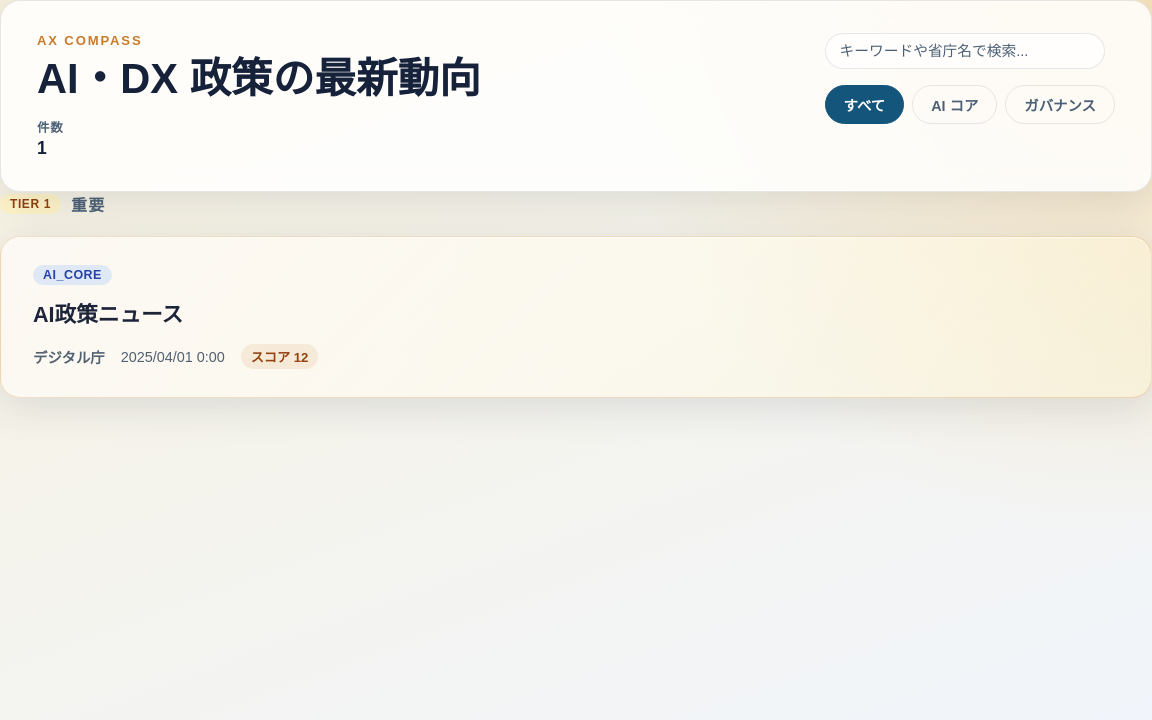
Dashboard › 検索で全件絞り込まれると「このカテゴリの情報はありません。」を表示する
The width and height of the screenshot is (1152, 720).
Type "存在しないキーワード" into the search field with placeholder "キーワードや省庁名で検索...".
click(965, 51); type("存在しないキーワード")  # box top-left (825, 33), bottom-right (1105, 69)
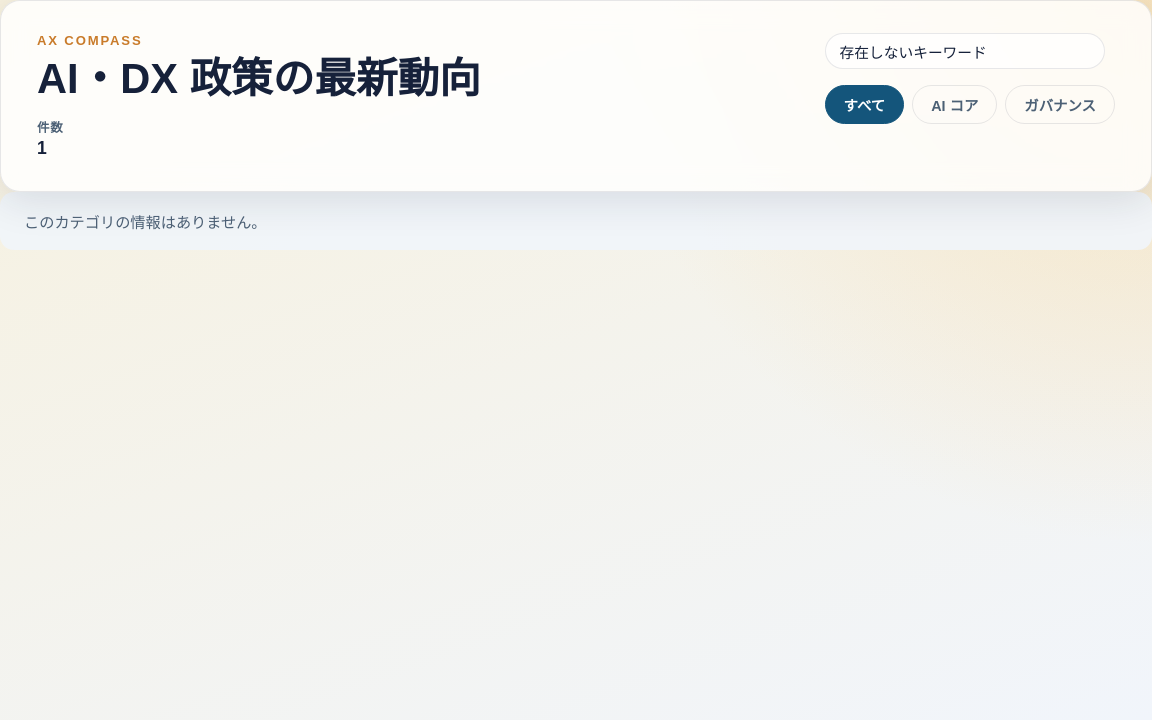
Check: the text "このカテゴリの情報はありません。" is shown, box top-left (0, 192), bottom-right (1151, 250)
